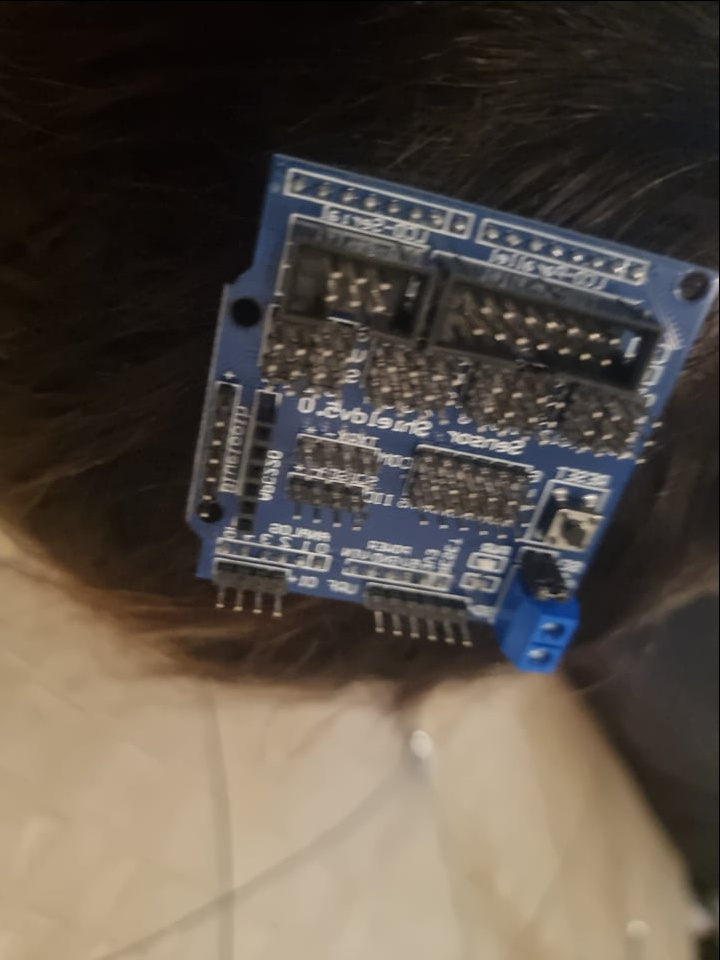5V EXPANSION: (188, 149, 720, 673)
